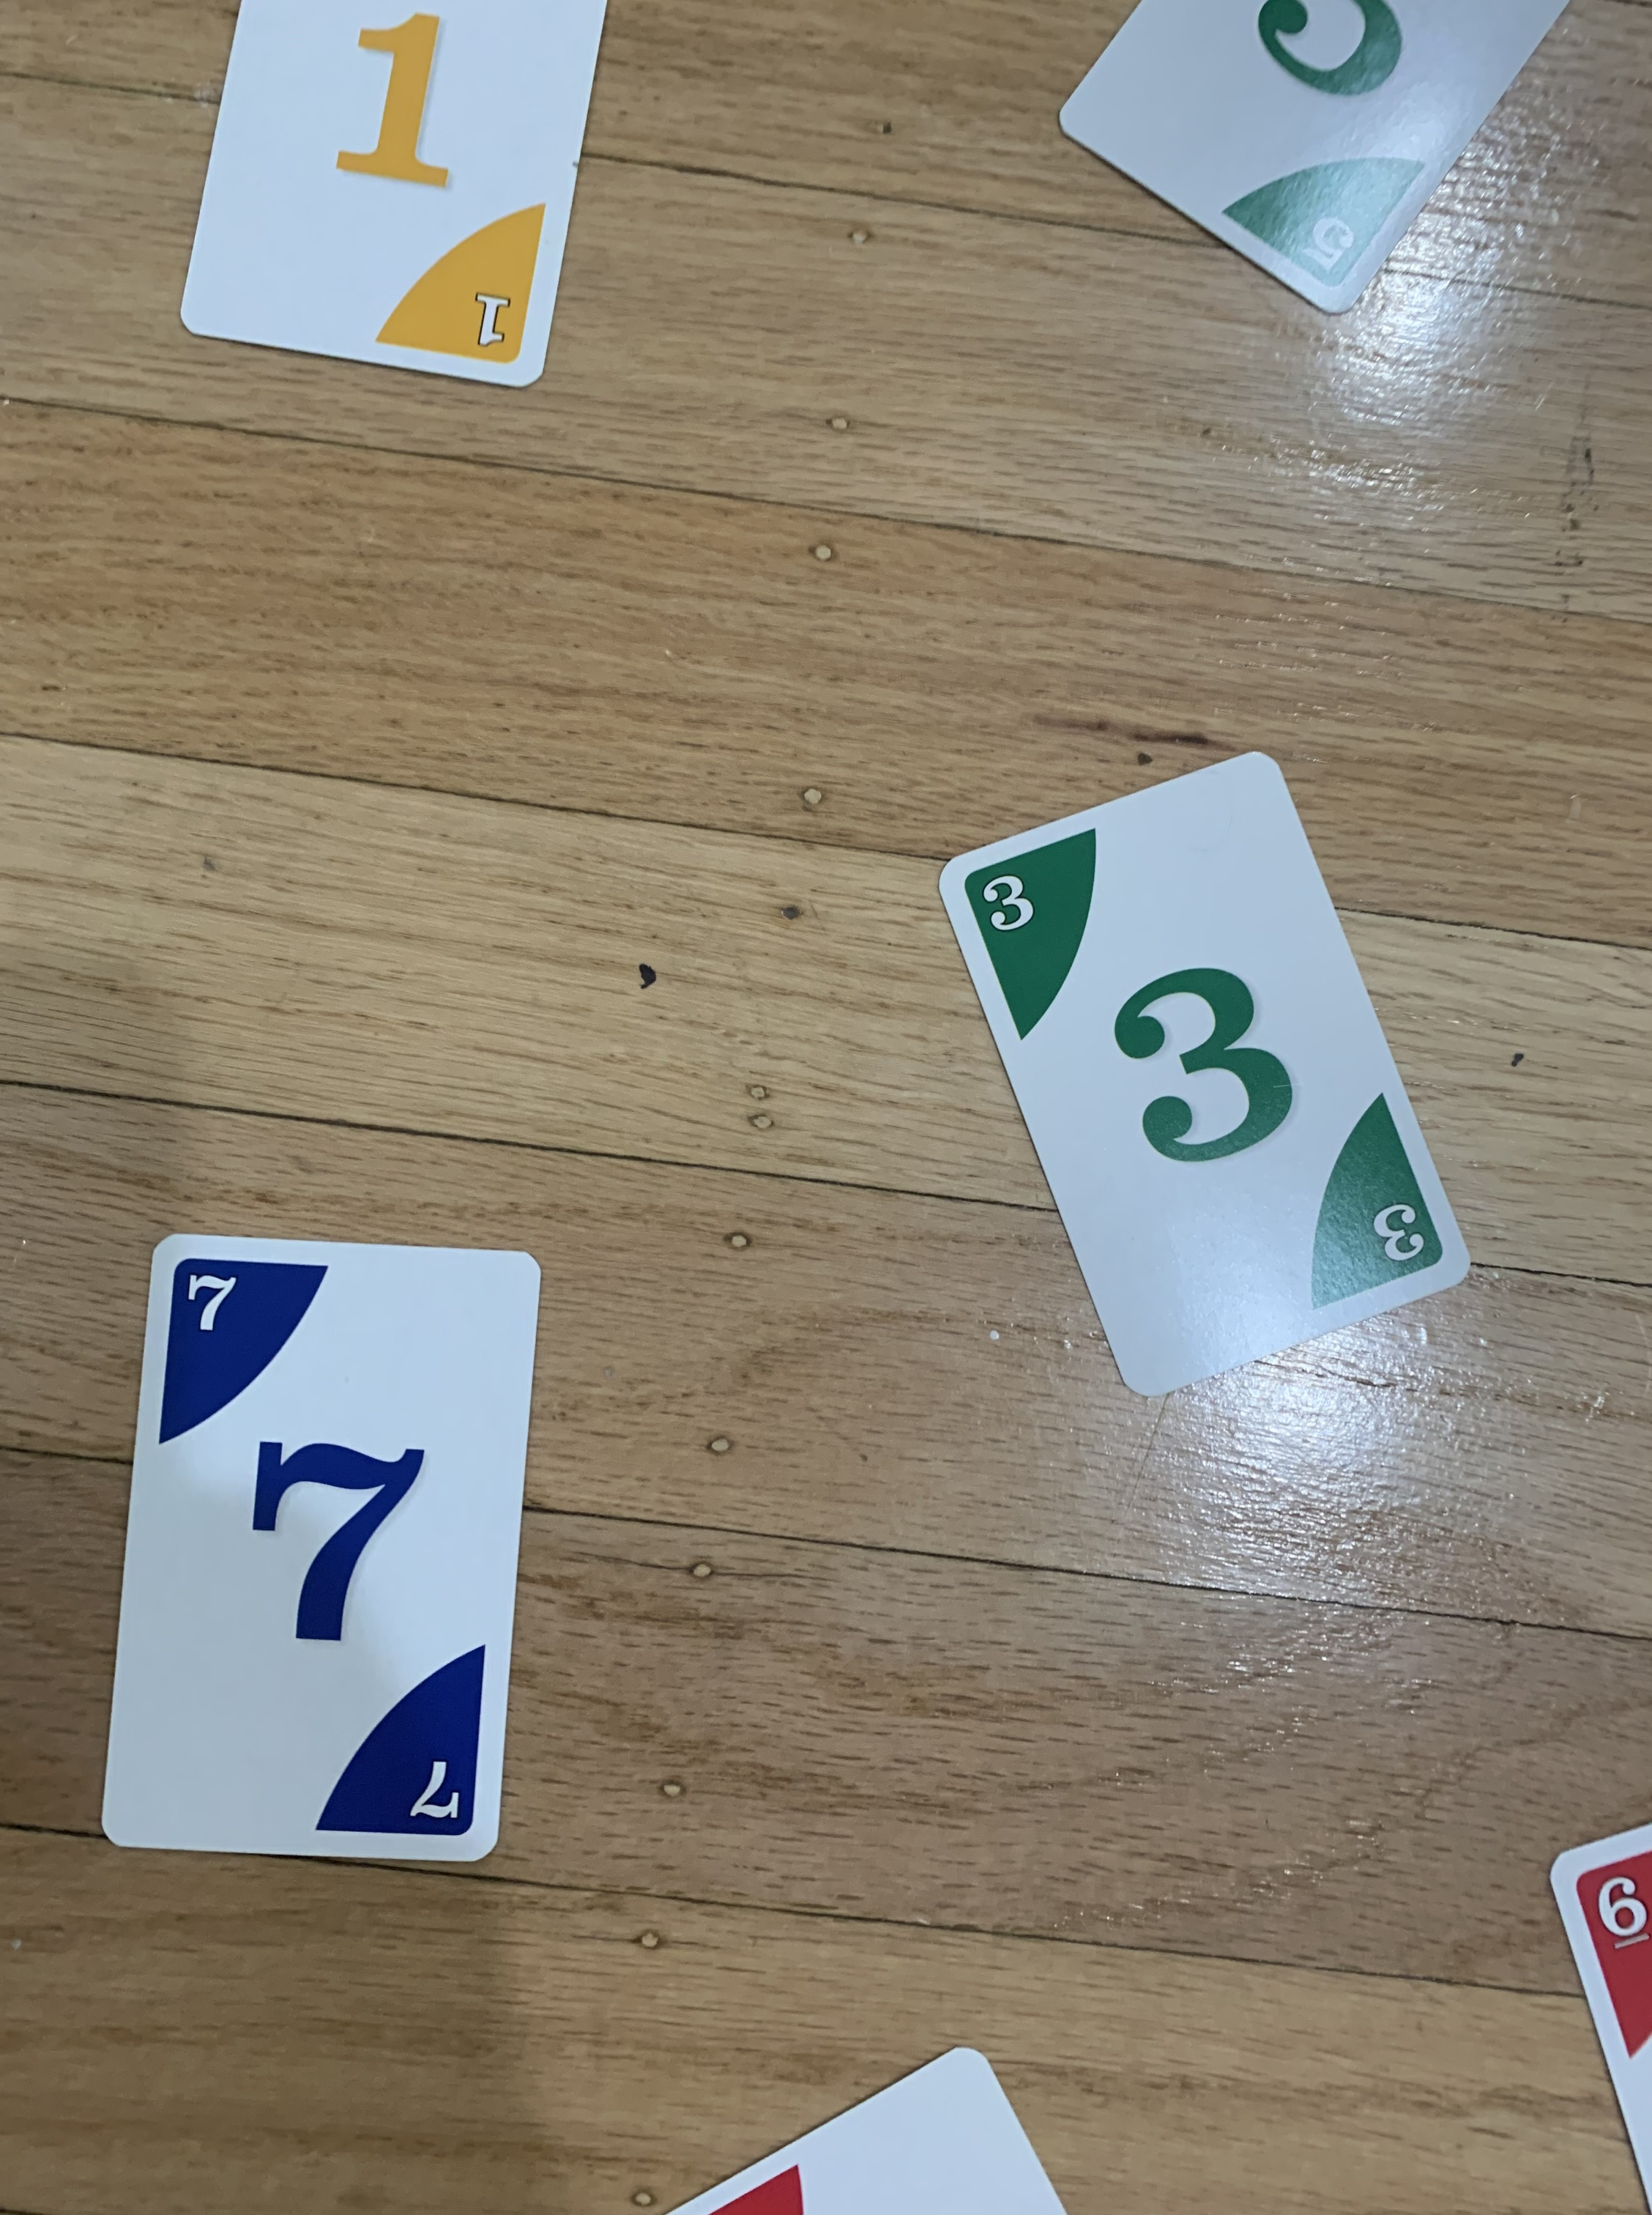one: (168, 0, 609, 401)
seven: (99, 1226, 545, 1883)
three: (937, 746, 1478, 1403)
